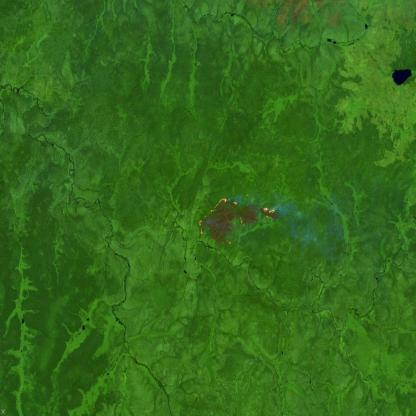fire: (196, 188, 278, 248)
